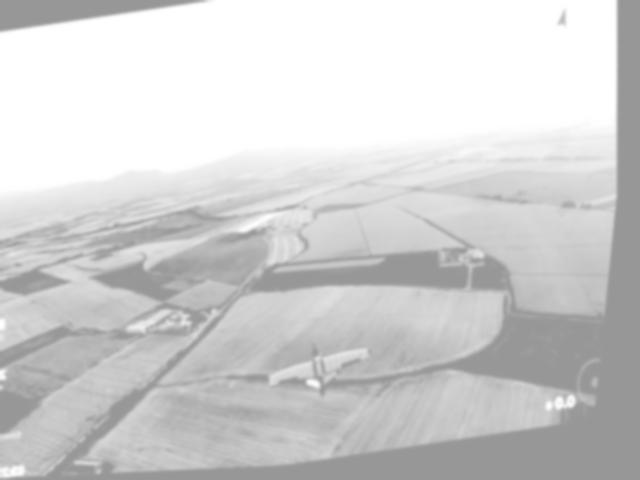hedef: (262, 337, 388, 422)
